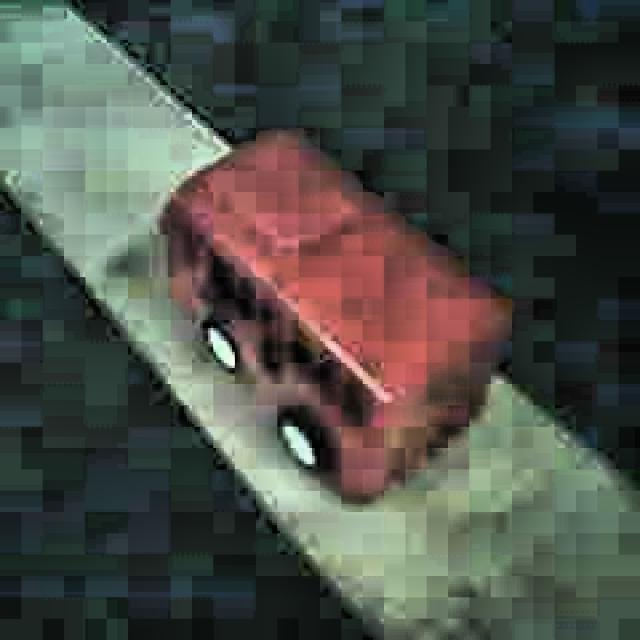bus: (159, 130, 506, 509)
